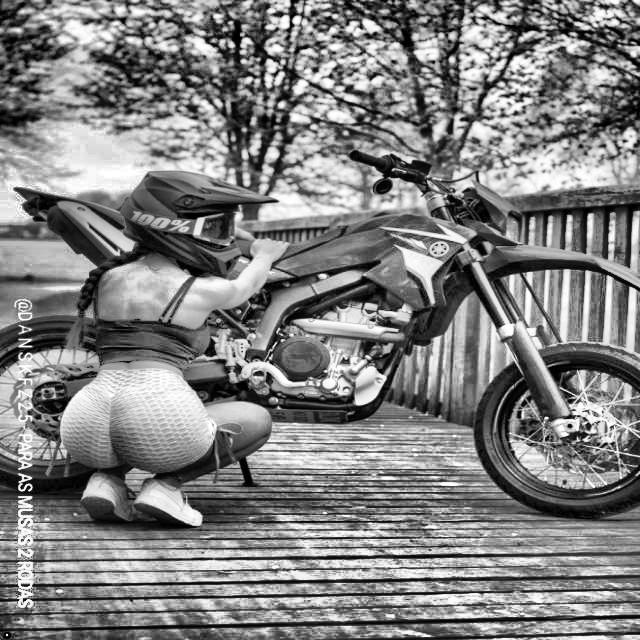Helmet: (114, 167, 282, 280)
